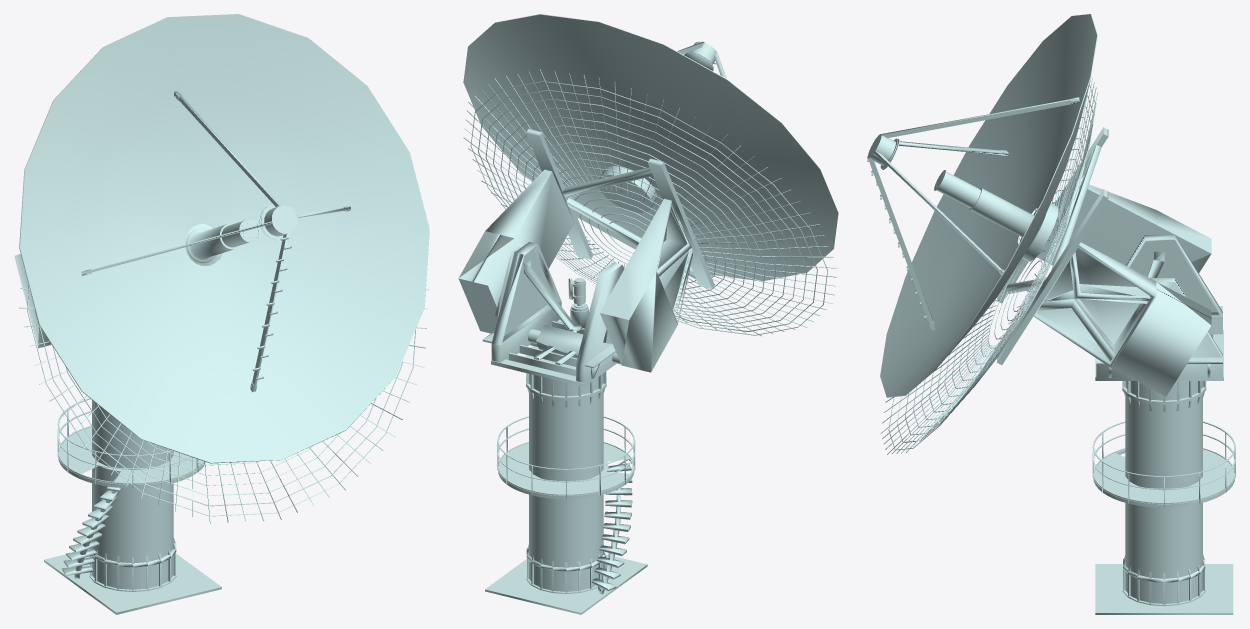
File: radar1.glb
3 views of the same model, side by side, from view 1: azimuth 30°, elevation 25°; view 2: azimuth 150°, elevation 25°; view 3: azimuth 270°, elevation 25° (orthographic). The views are drawn at different scales.
Parts seen in each view (by area): view 1: AM84_027_09, AM84_027_00, AM84_027_08, AM84_027_02, AM84_027_10, AM84_027_05, AM84_027_01; view 2: AM84_027_09, AM84_027_00, AM84_027_08, AM84_027_10, AM84_027_02, AM84_027_05, AM84_027_06, AM84_027_01; view 3: AM84_027_09, AM84_027_00, AM84_027_10, AM84_027_08, AM84_027_02, AM84_027_05, AM84_027_01.
Part boxes in pixels (x1,y1,x2,y2): AM84_027_09: (14,14,429,463); AM84_027_00: (44,400,221,614); AM84_027_08: (27,285,416,516); AM84_027_02: (59,427,202,482); AM84_027_10: (19,268,429,523); AM84_027_05: (57,398,198,488); AM84_027_01: (58,426,206,488); AM84_027_09: (458,14,838,372); AM84_027_00: (482,242,647,614); AM84_027_08: (470,81,827,335); AM84_027_10: (463,69,837,336); AM84_027_02: (499,443,633,494); AM84_027_05: (497,416,635,499); AM84_027_06: (528,325,620,364); AM84_027_01: (498,442,634,499); AM84_027_09: (867,14,1211,397); AM84_027_00: (1095,235,1233,614); AM84_027_10: (880,77,1098,454); AM84_027_08: (888,85,1096,450); AM84_027_02: (1094,449,1233,502); AM84_027_05: (1092,421,1235,508); AM84_027_01: (1093,448,1235,507).
Bounding box in the file's own units: 70 × 100 × 60.23.
